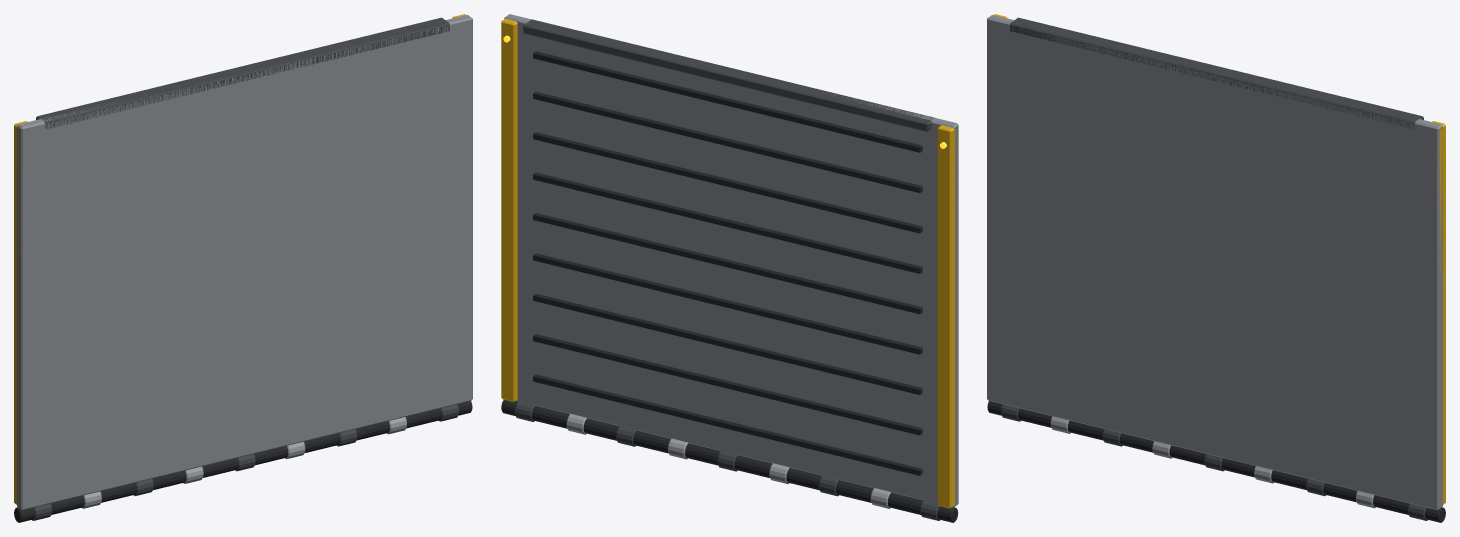
The model's file is cargo_ramp.glb.
3 renders of one model, left to right at view 1: azimuth 30°, elevation 25°; view 2: azimuth 150°, elevation 25°; view 3: azimuth 330°, elevation 25°, orthographic.
Parts seen in each view (by area): view 1: ramp, base; view 2: ramp, base; view 3: ramp, base.
Part boxes in pixels (x1=…): ramp: x1=14, y1=14, x2=472, y2=510; base: x1=14, y1=401, x2=472, y2=522; ramp: x1=501, y1=14, x2=958, y2=508; base: x1=501, y1=400, x2=958, y2=522; ramp: x1=987, y1=14, x2=1445, y2=510; base: x1=987, y1=401, x2=1445, y2=522.
Size of the model in its own units: 3.2 by 2.7 by 0.12.
